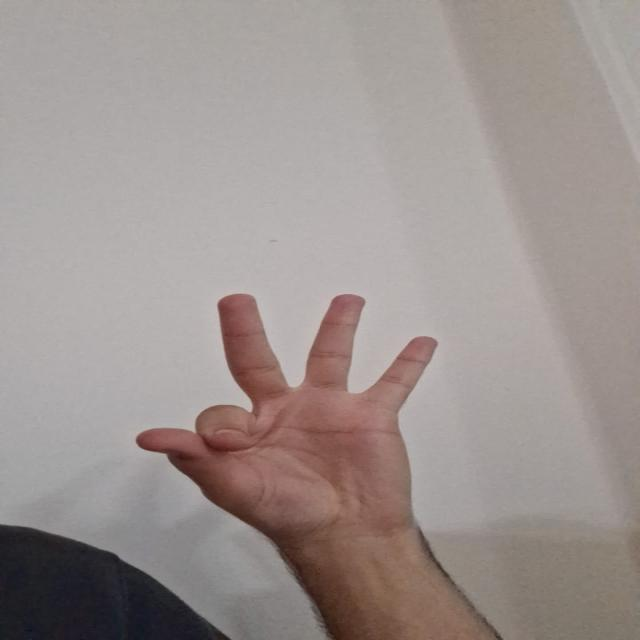F: (112, 285, 489, 547)
